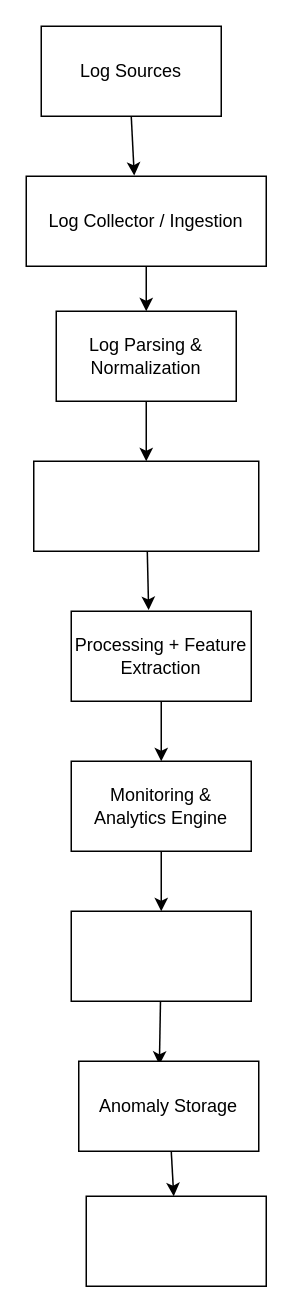
The diagram is 293 pixels wide and 1313 high, and some of its shapes have lost their labels. The shapes that lost their labels are listed below. From the top down, each one's centre as x and y in pixels, then its label:
At [145,505]: "Log Storage (Database)".
At [160,955]: "Anomaly Detection Module".
At [175,1240]: "Dashboard / Alerts / Reports".
